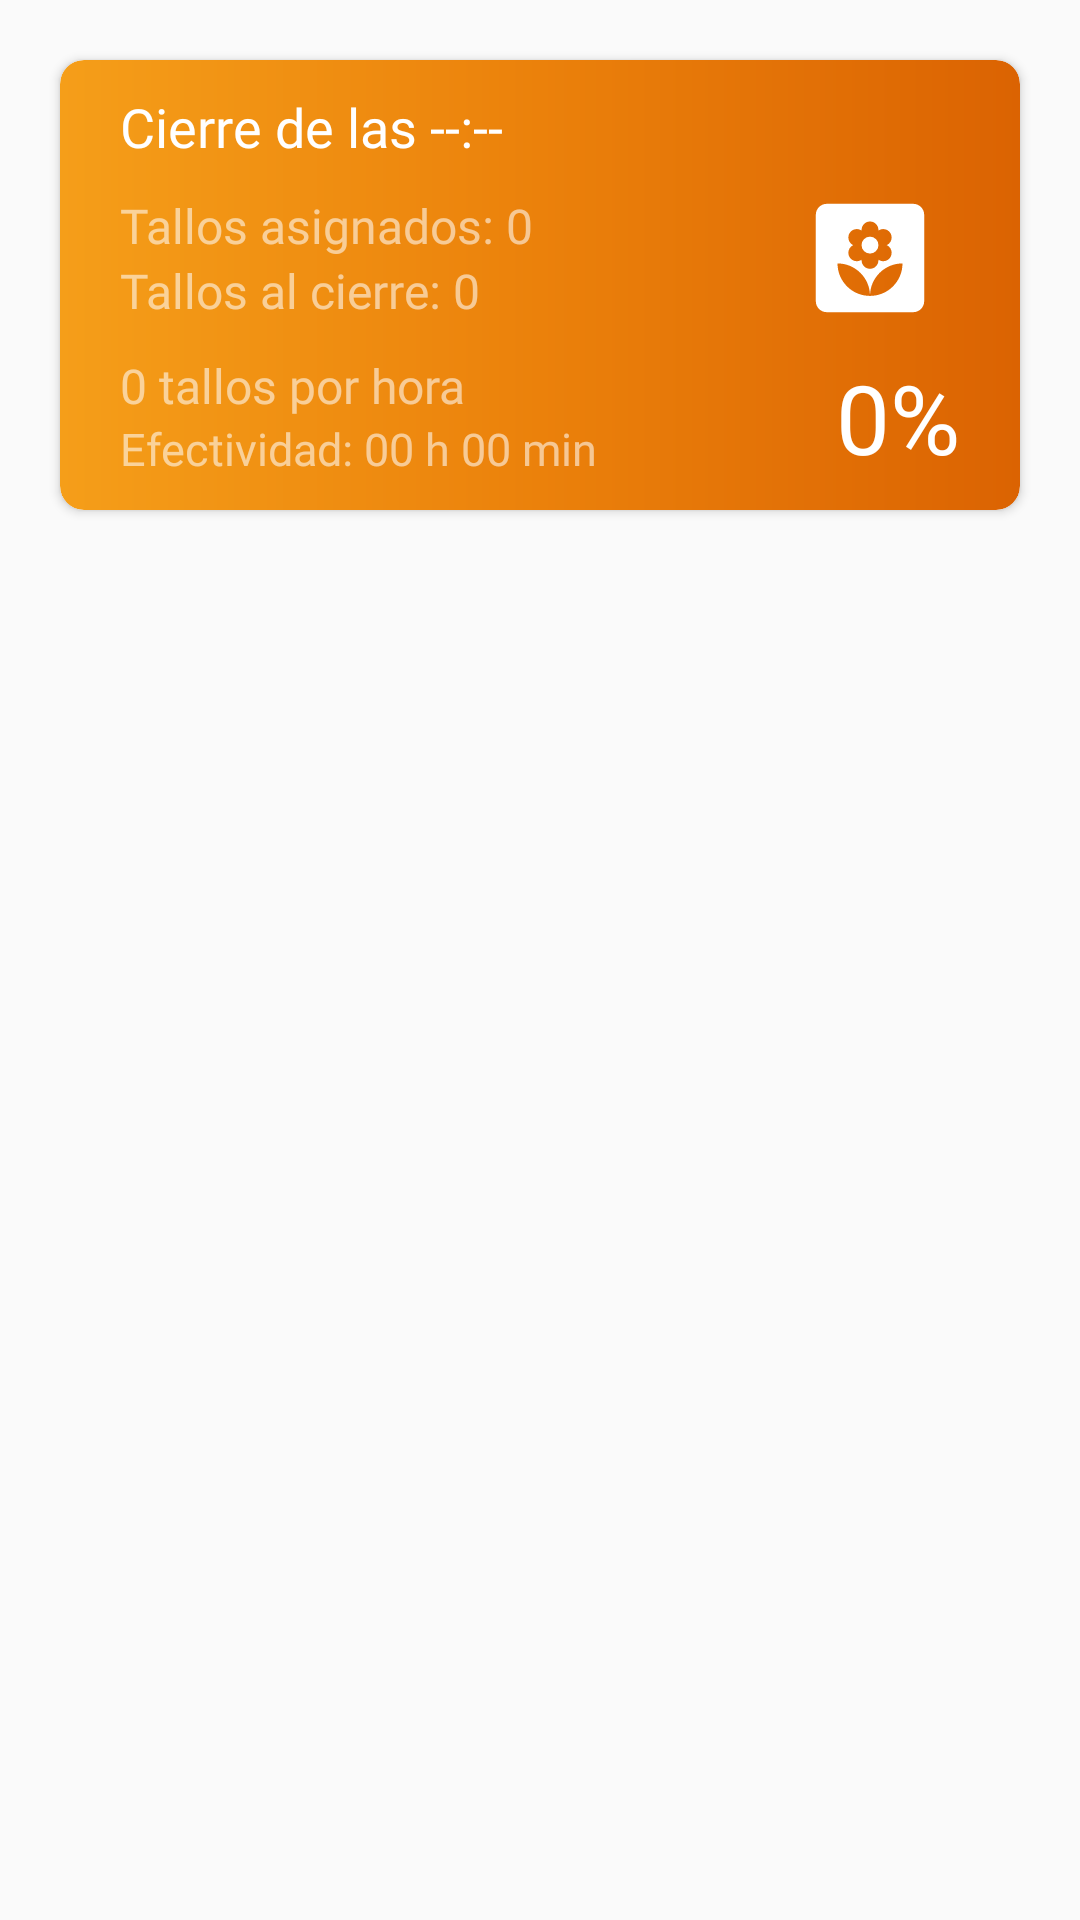

Icons on this 1080px×1920px Android screen, each with the point to tap as point (x, y):
yard: point (870, 258)
